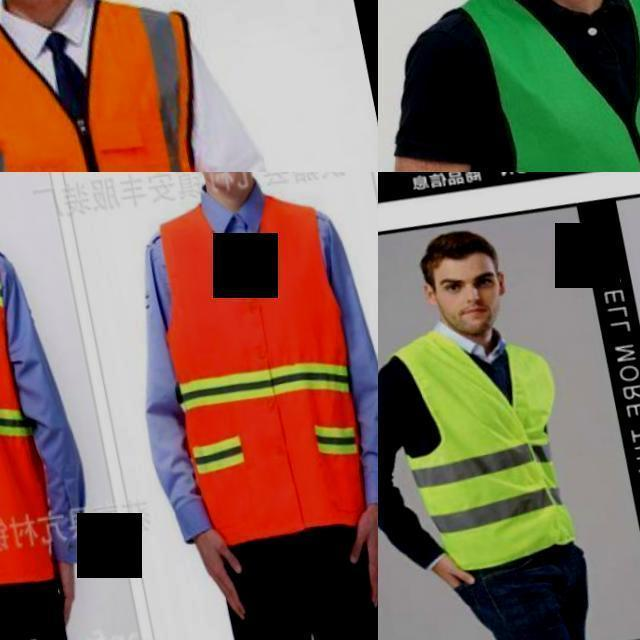vest: (132, 172, 378, 568), (397, 334, 586, 596), (0, 0, 258, 172), (416, 0, 640, 172), (0, 231, 65, 616)
